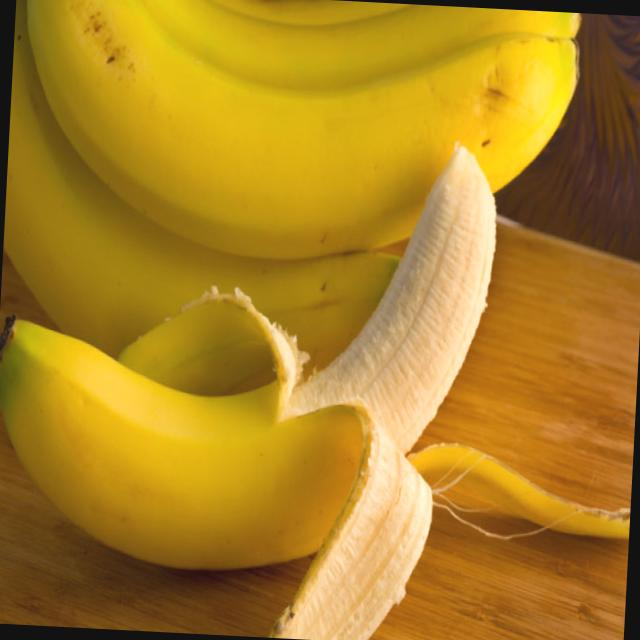banana: (1, 124, 544, 564), (0, 1, 408, 413), (29, 8, 598, 268)
